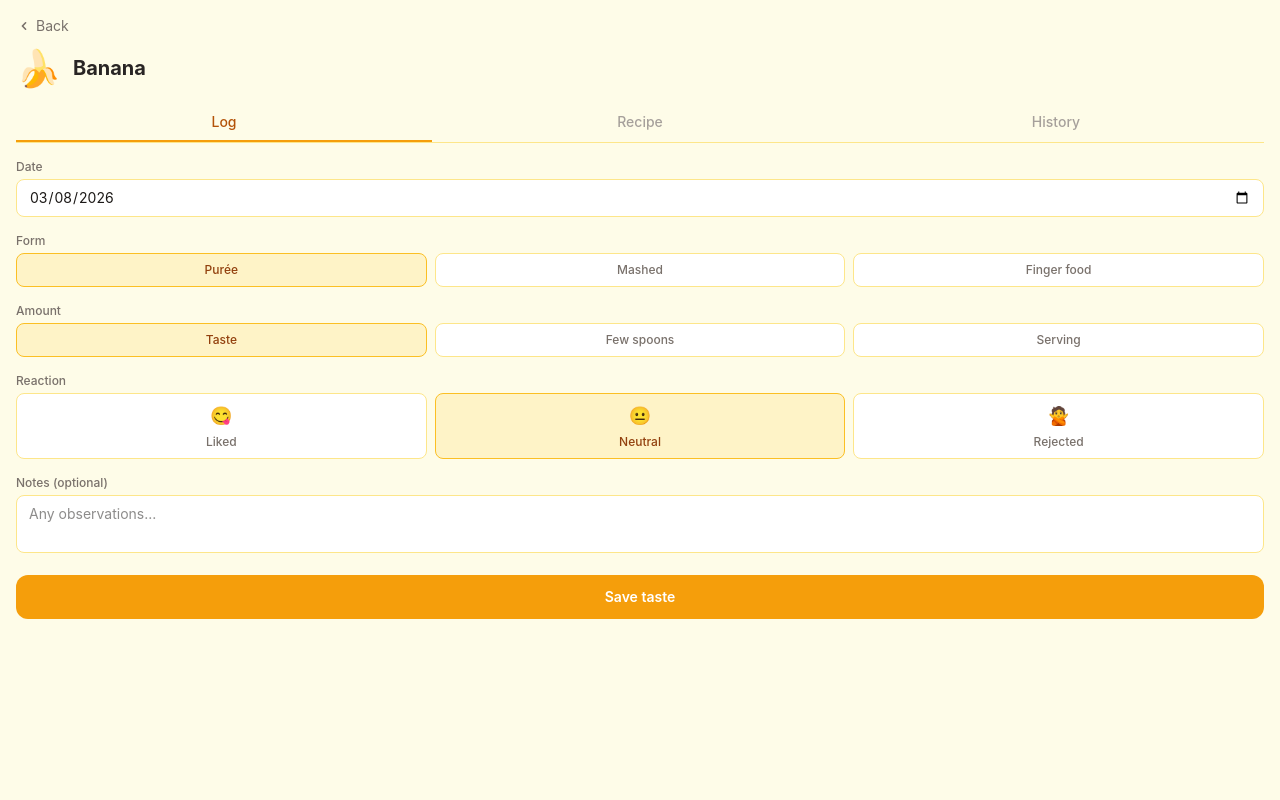
Test: food detail tabs › switching to History tab shows empty state when no logs
Click the button "History". click: click(1056, 123)
box: left=848, top=104, right=1264, bottom=142
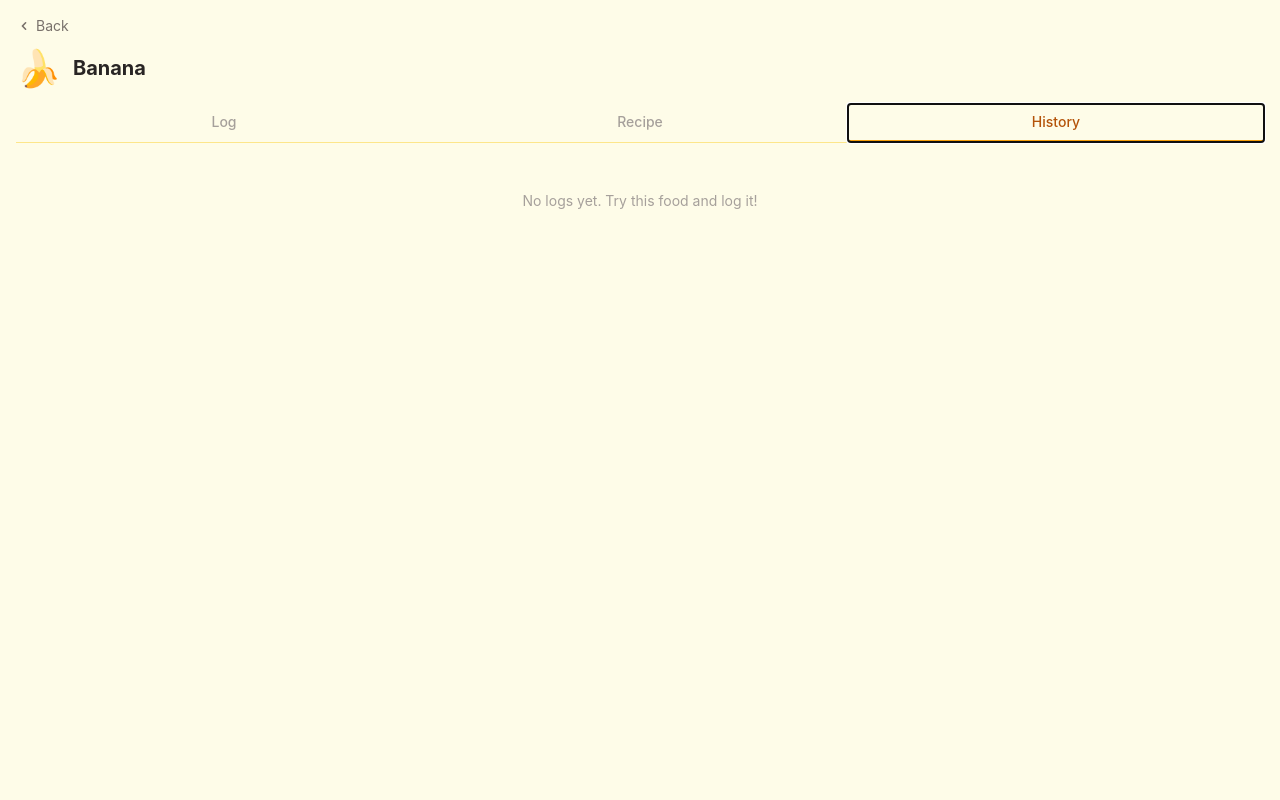
Expected: the text "No logs yet. Try this food and log it!" is shown, left=522, top=192, right=758, bottom=209
